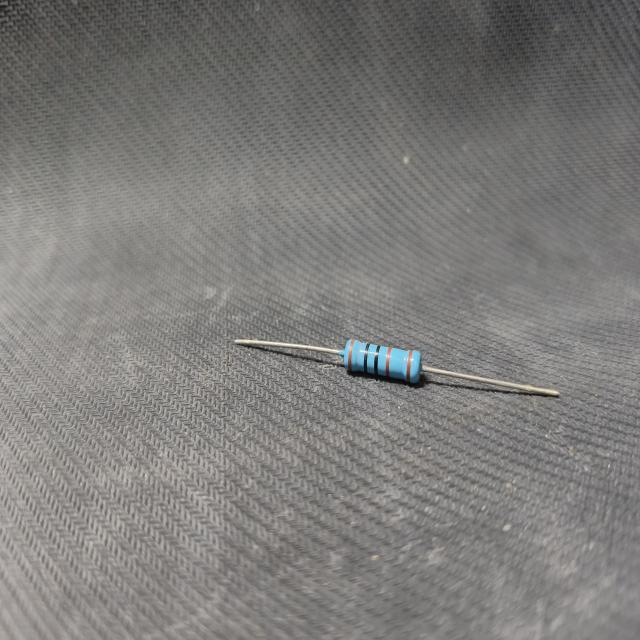resistor: (225, 320, 569, 410)
